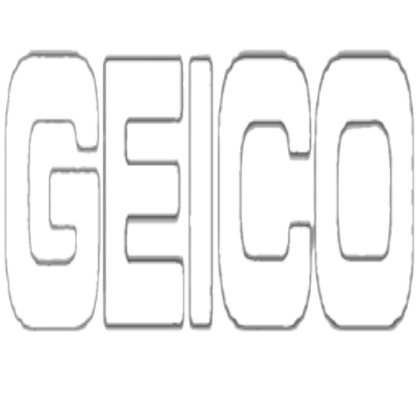geico: (1, 44, 420, 344)
